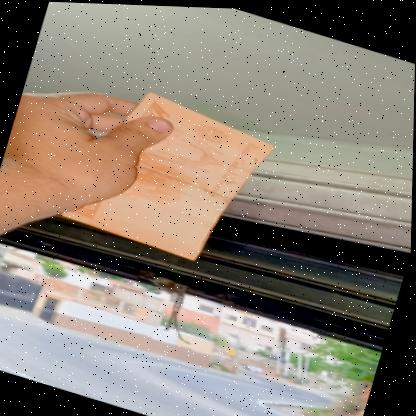twenty-back-vef: (54, 73, 281, 273)
